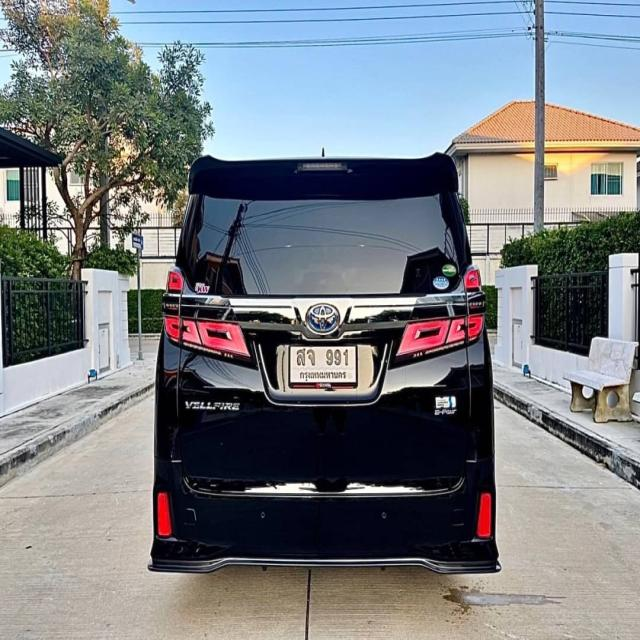license_plate: (290, 341, 357, 388)
